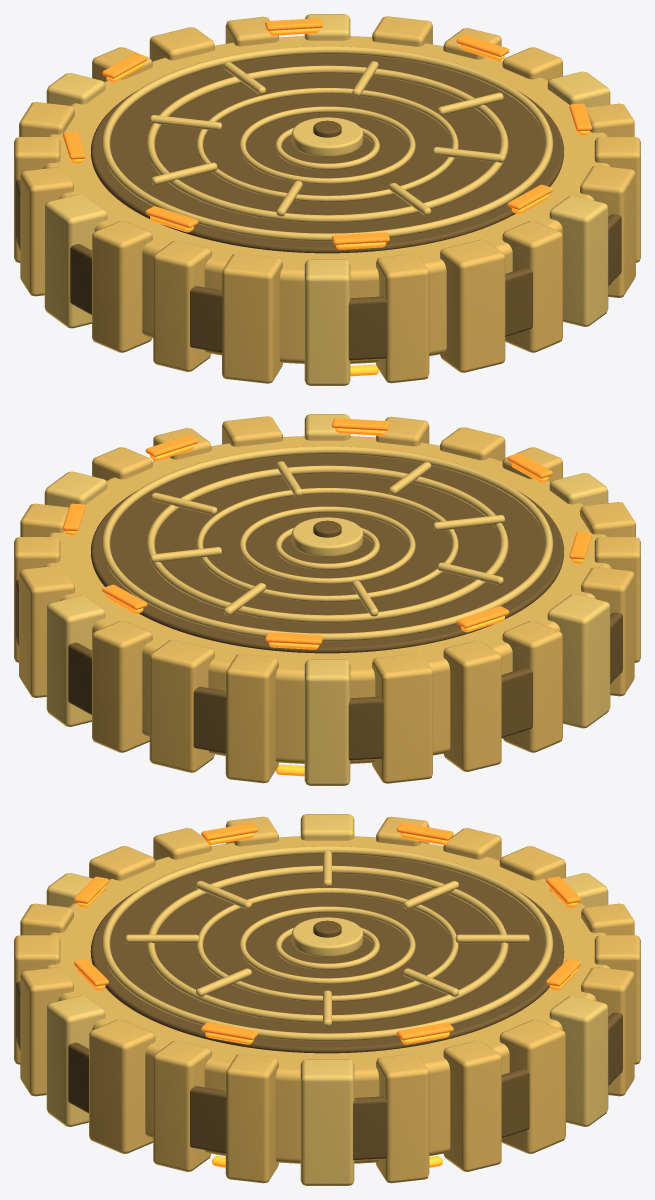
The model's file is GoldenSciFiCoin.fbx.
3 renders of one model, top to bottom at view 1: azimuth 30°, elevation 25°; view 2: azimuth 150°, elevation 25°; view 3: azimuth 270°, elevation 25°, orthographic.
Visible parts, largest first — view 1: Coin_Front_DarkRecessedFace, Coin_Body_ThickWarmGoldDisk, Coin_Front_RaisedConcentricRing_4, Coin_OuterArmorSegment_18, Coin_OuterArmorSegment_15, Coin_Front_RaisedConcentricRing_3, Coin_OuterArmorSegment_13, Coin_OuterArmorSegment_20, Coin_OuterArmorSegment_17, Coin_OuterArmorSegment_16, Coin_OuterArmorSegment_14, Coin_OuterArmorSegment_19 (+35 smaller); view 2: Coin_Front_DarkRecessedFace, Coin_Body_ThickWarmGoldDisk, Coin_Front_RaisedConcentricRing_4, Coin_OuterArmorSegment_09, Coin_Front_RaisedConcentricRing_3, Coin_OuterArmorSegment_06, Coin_OuterArmorSegment_10, Coin_OuterArmorSegment_05, Coin_OuterArmorSegment_12, Coin_OuterArmorSegment_07, Coin_OuterArmorSegment_08, Coin_OuterArmorSegment_11 (+35 smaller); view 3: Coin_Front_DarkRecessedFace, Coin_Body_ThickWarmGoldDisk, Coin_Front_RaisedConcentricRing_4, Coin_OuterArmorSegment_21, Coin_OuterArmorSegment_00, Coin_Front_RaisedConcentricRing_3, Coin_OuterArmorSegment_02, Coin_OuterArmorSegment_23, Coin_OuterArmorSegment_03, Coin_OuterArmorSegment_01, Coin_OuterArmorSegment_04, Coin_OuterArmorSegment_22 (+35 smaller).
Part boxes in pixels (x1,y1,x2,y2): Coin_Front_DarkRecessedFace: [91, 54, 563, 253]; Coin_Body_ThickWarmGoldDisk: [43, 36, 610, 363]; Coin_Front_RaisedConcentricRing_4: [101, 46, 553, 241]; Coin_OuterArmorSegment_18: [440, 239, 505, 372]; Coin_OuterArmorSegment_15: [222, 253, 282, 383]; Coin_Front_RaisedConcentricRing_3: [146, 65, 508, 223]; Coin_OuterArmorSegment_13: [92, 220, 152, 352]; Coin_OuterArmorSegment_20: [549, 195, 608, 326]; Coin_OuterArmorSegment_17: [376, 253, 429, 383]; Coin_OuterArmorSegment_16: [304, 259, 350, 385]; Coin_OuterArmorSegment_14: [153, 240, 211, 371]; Coin_OuterArmorSegment_19: [502, 220, 562, 352]; Coin_Front_DarkRecessedFace: [91, 454, 563, 653]; Coin_Body_ThickWarmGoldDisk: [44, 436, 611, 763]; Coin_Front_RaisedConcentricRing_4: [101, 446, 553, 641]; Coin_OuterArmorSegment_09: [372, 653, 432, 783]; Coin_Front_RaisedConcentricRing_3: [146, 465, 508, 623]; Coin_OuterArmorSegment_06: [149, 639, 214, 772]; Coin_OuterArmorSegment_10: [443, 640, 501, 771]; Coin_OuterArmorSegment_05: [92, 620, 152, 752]; Coin_OuterArmorSegment_12: [547, 594, 610, 728]; Coin_OuterArmorSegment_07: [225, 653, 278, 783]; Coin_OuterArmorSegment_08: [304, 659, 350, 785]; Coin_OuterArmorSegment_11: [502, 620, 562, 752]; Coin_Front_DarkRecessedFace: [90, 854, 564, 1053]; Coin_Body_ThickWarmGoldDisk: [44, 836, 610, 1163]; Coin_Front_RaisedConcentricRing_4: [101, 846, 553, 1041]; Coin_OuterArmorSegment_21: [89, 1019, 155, 1153]; Coin_OuterArmorSegment_00: [300, 1059, 354, 1185]; Coin_Front_RaisedConcentricRing_3: [146, 865, 508, 1023]; Coin_OuterArmorSegment_02: [443, 1040, 501, 1171]; Coin_OuterArmorSegment_23: [225, 1053, 278, 1183]; Coin_OuterArmorSegment_03: [499, 1019, 565, 1153]; Coin_OuterArmorSegment_01: [376, 1053, 429, 1183]; Coin_OuterArmorSegment_04: [549, 995, 608, 1126]; Coin_OuterArmorSegment_22: [153, 1040, 211, 1171].
Bounding box in the file's own units: 70.2 × 17.5 × 70.2.
